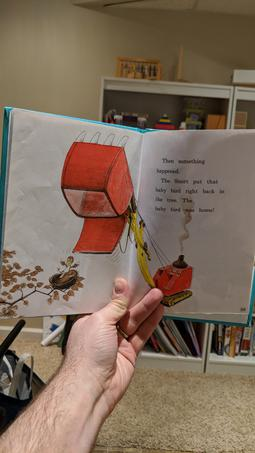text block: (145, 149, 235, 220)
